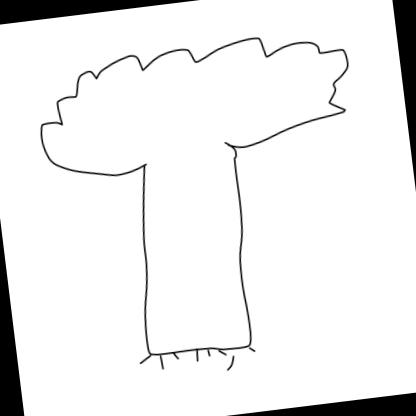crown_cloud: (30, 24, 359, 184)
root_only: (134, 332, 258, 384)
trunk_straight: (128, 175, 256, 332)
